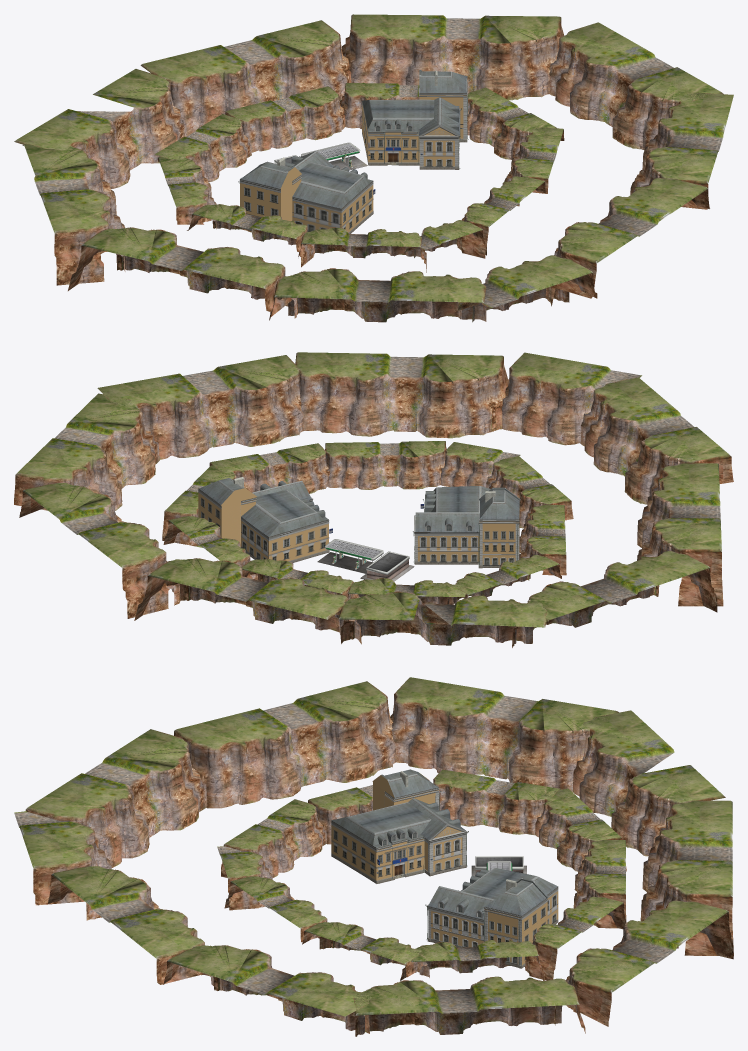
File: GasStation.fbx
3 renders of one model, top to bottom at view 1: azimuth 30°, elevation 25°; view 2: azimuth 150°, elevation 25°; view 3: azimuth 270°, elevation 25°, orthographic. The views are drawn at different scales.
Parts seen in each view (by area): view 1: polySurface1; view 2: polySurface1; view 3: polySurface1.
Part boxes in pixels (x1,y1,x2,y2): polySurface1: (14, 14, 733, 322); polySurface1: (14, 352, 733, 647); polySurface1: (14, 677, 733, 1036).
Size of the model in its own units: 170 by 17.66 by 152.
